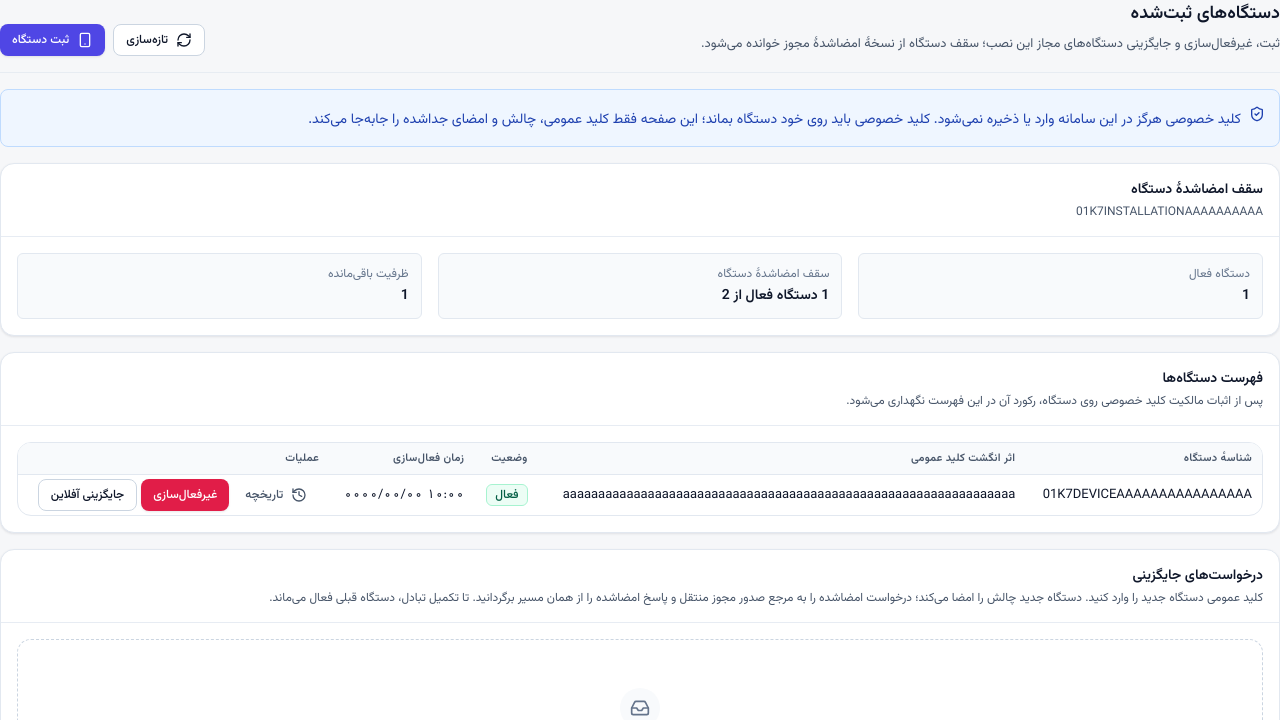
it: Persian client-device administrator surface › requires confirmation before deactivation and retains the device after success
What coordinates should you click on to do the following:
click the button "غیرفعال‌سازی"
I would click on:
 (185, 495)
Its box is [141, 479, 229, 511].
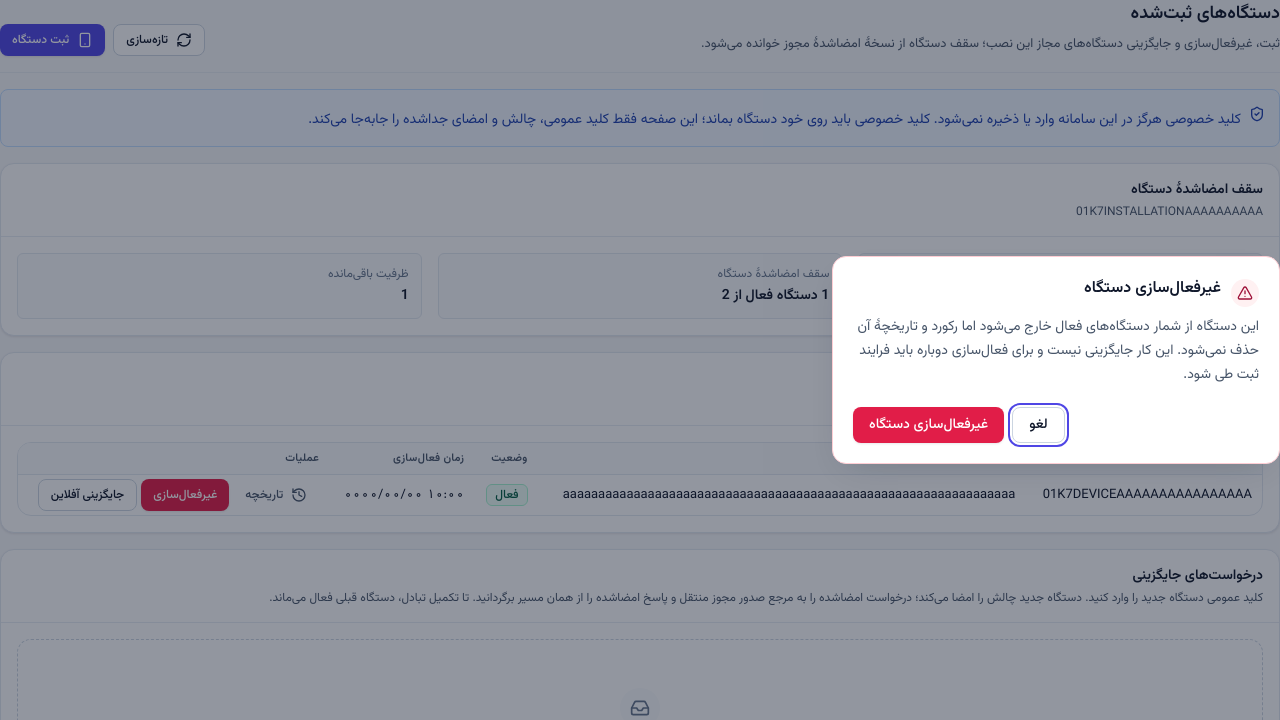
Check: the text "این دستگاه از شمار دستگاه‌های فعال خارج می‌شود اما رکورد و تاریخچهٔ آن حذف نمی‌شود. این کار جایگزینی نیست و برای فعال‌سا" is shown, box [858, 316, 1259, 386]
What coordinates should you click on to do the following:
click the button "غیرفعال‌سازی دستگاه"
I would click on:
 (929, 425)
Its box is [853, 407, 1004, 443].
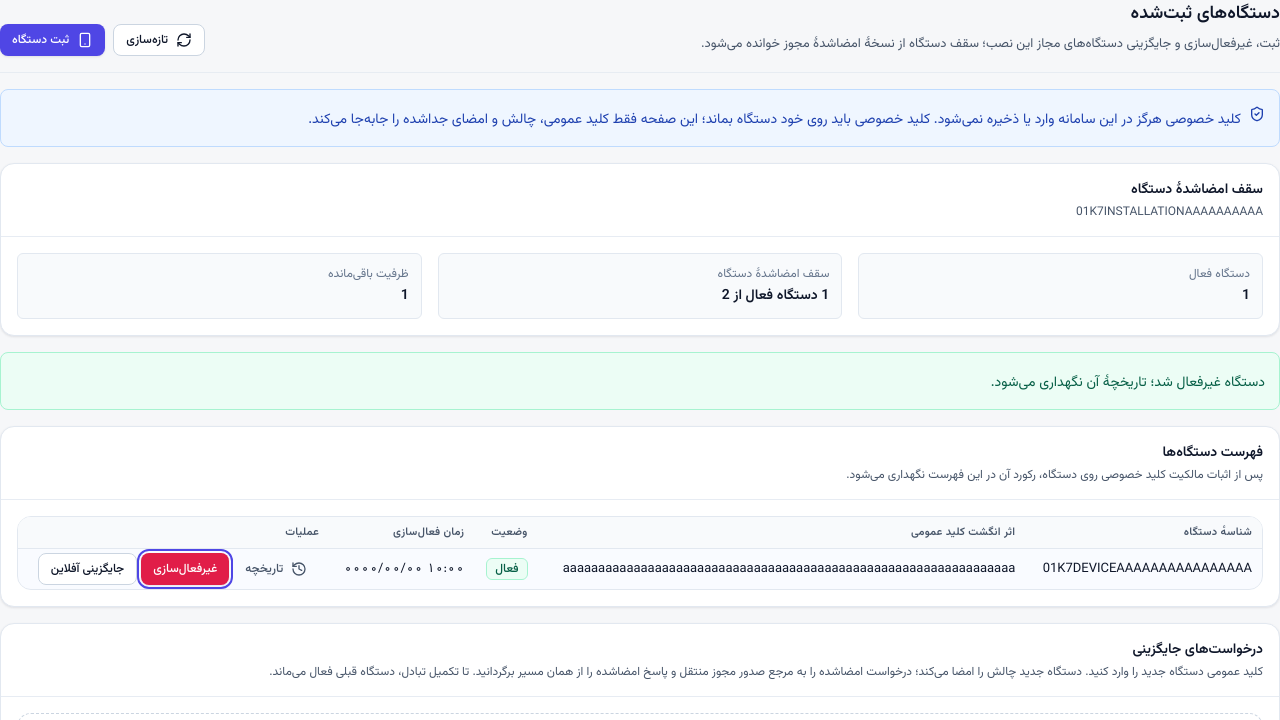
Check: the text "دستگاه غیرفعال شد؛ تاریخچهٔ آن نگهداری می‌شود." is shown, box [991, 372, 1265, 394]
